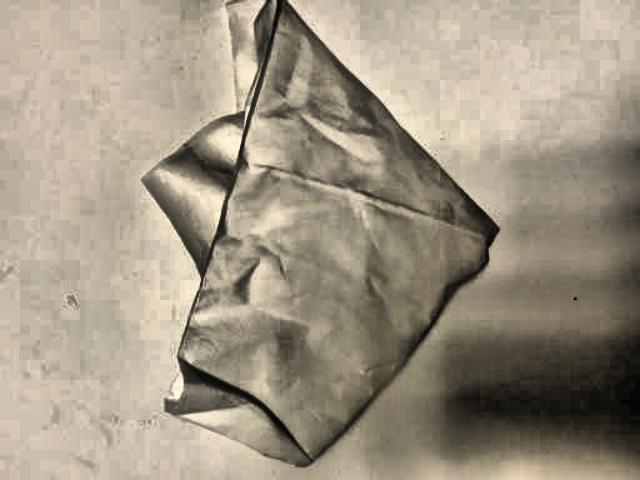Paper: (140, 0, 496, 468)
